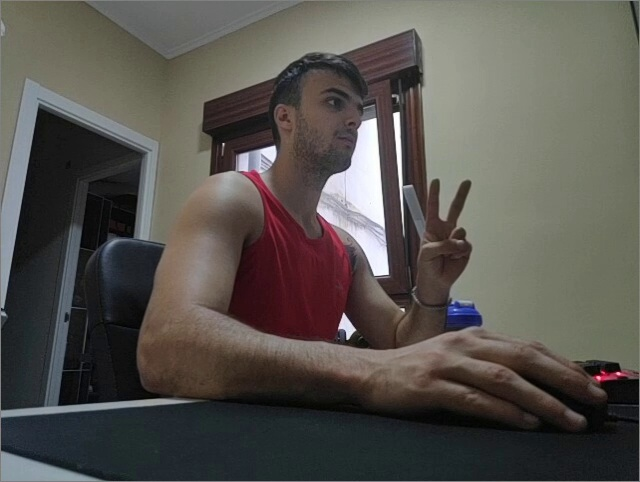Peace: (414, 173, 479, 280)
